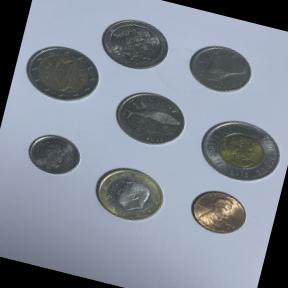1 Euro-B: (82, 154, 176, 234)
2 Euro-B: (17, 36, 106, 111)
Canada-10cent-B: (20, 124, 90, 185)
Canada-2Dollar-B: (184, 104, 288, 198)
Croatia-2Kune-B: (104, 78, 196, 158)
US-1cent-B: (179, 180, 257, 246)
US-25cent-B: (92, 10, 178, 80)
